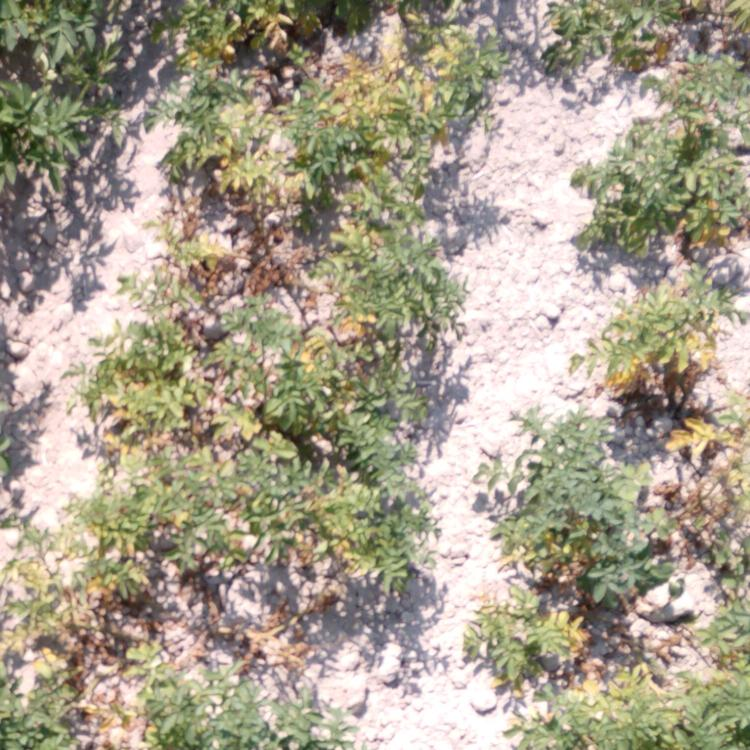healthy: (507, 425, 634, 522), (1, 75, 99, 198), (1, 3, 146, 73)
stressed: (87, 323, 412, 483), (166, 203, 454, 323), (86, 486, 418, 586), (326, 22, 499, 191), (106, 627, 335, 750), (629, 72, 750, 268), (7, 522, 88, 750), (164, 74, 313, 192), (591, 273, 725, 396), (547, 1, 750, 70), (504, 682, 706, 750), (670, 410, 750, 580), (472, 606, 649, 678), (506, 533, 674, 602), (171, 1, 311, 72), (701, 589, 750, 750), (575, 144, 626, 246)
